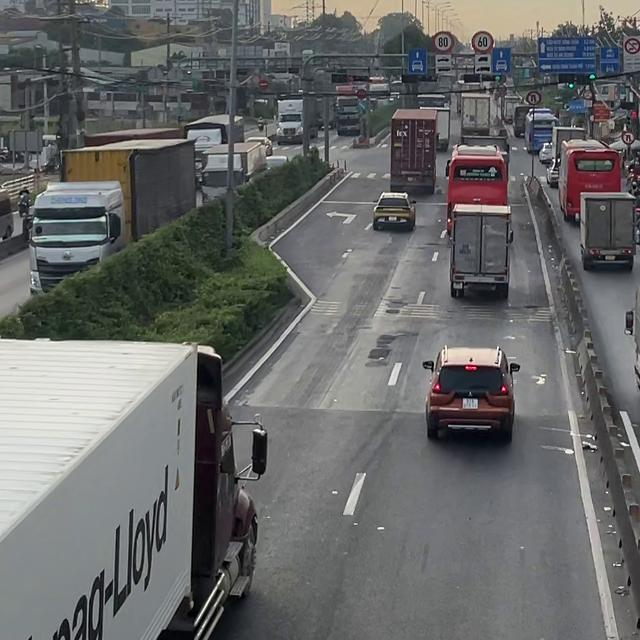bus: (444, 143, 509, 234), (557, 139, 622, 222), (524, 108, 559, 154)
car: (422, 344, 520, 441), (372, 190, 416, 231), (546, 157, 559, 187), (538, 142, 553, 164)
truck: (0, 335, 267, 639), (27, 139, 196, 295), (447, 202, 513, 299), (578, 191, 637, 271), (184, 113, 244, 185), (389, 108, 437, 194), (202, 144, 266, 204), (624, 282, 639, 398), (419, 106, 450, 151), (460, 93, 491, 137), (460, 136, 510, 163), (553, 126, 586, 165), (276, 100, 305, 144), (514, 105, 539, 139)
